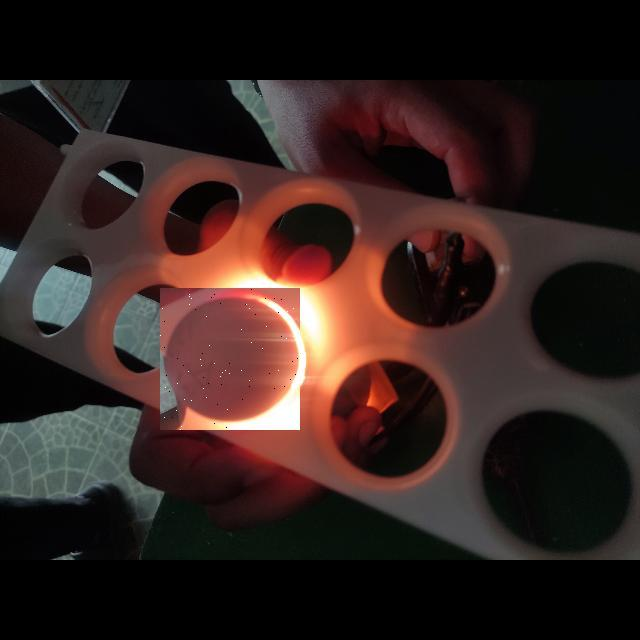Fertile: (160, 288, 300, 430)
